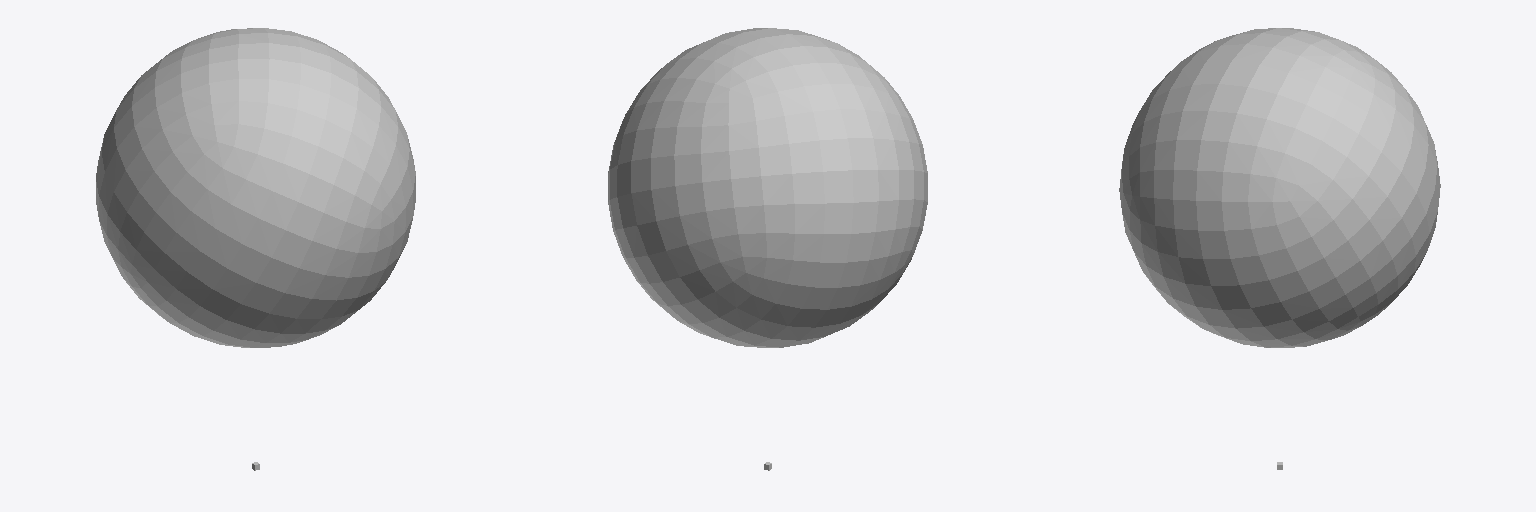
3 views of the same model, side by side, from view 1: azimuth 30°, elevation 25°; view 2: azimuth 150°, elevation 25°; view 3: azimuth 270°, elevation 25° (orthographic).
Visible parts, largest first — view 1: Moon_Cube.002; view 2: Moon_Cube.002; view 3: Moon_Cube.002.
Part boxes in pixels (left/top/right/bottom): Moon_Cube.002: left=96, top=28, right=415, bottom=347; Moon_Cube.002: left=608, top=28, right=927, bottom=347; Moon_Cube.002: left=1119, top=28, right=1440, bottom=347.
Size of the model in its own units: 105 by 153 by 105.